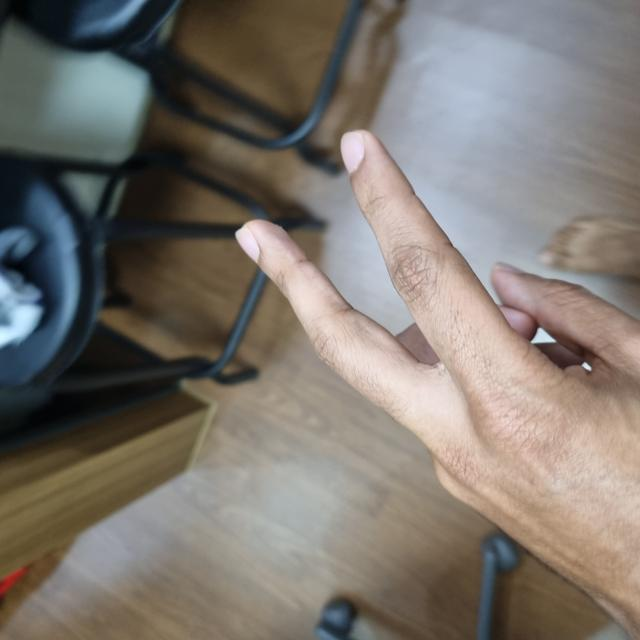Scissors: (0, 244, 506, 638)
